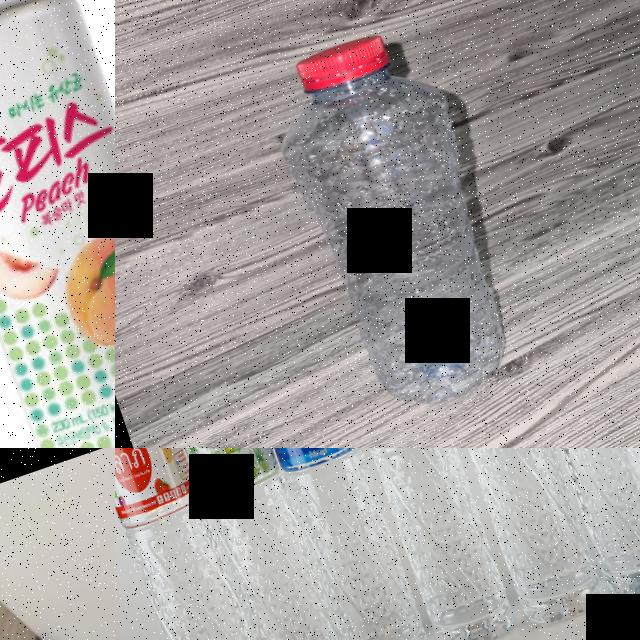bottle: (237, 1, 568, 444), (372, 448, 615, 640), (291, 448, 531, 640), (201, 448, 439, 640), (120, 448, 356, 640), (459, 448, 640, 614), (115, 448, 271, 640)
can: (0, 0, 115, 448)
